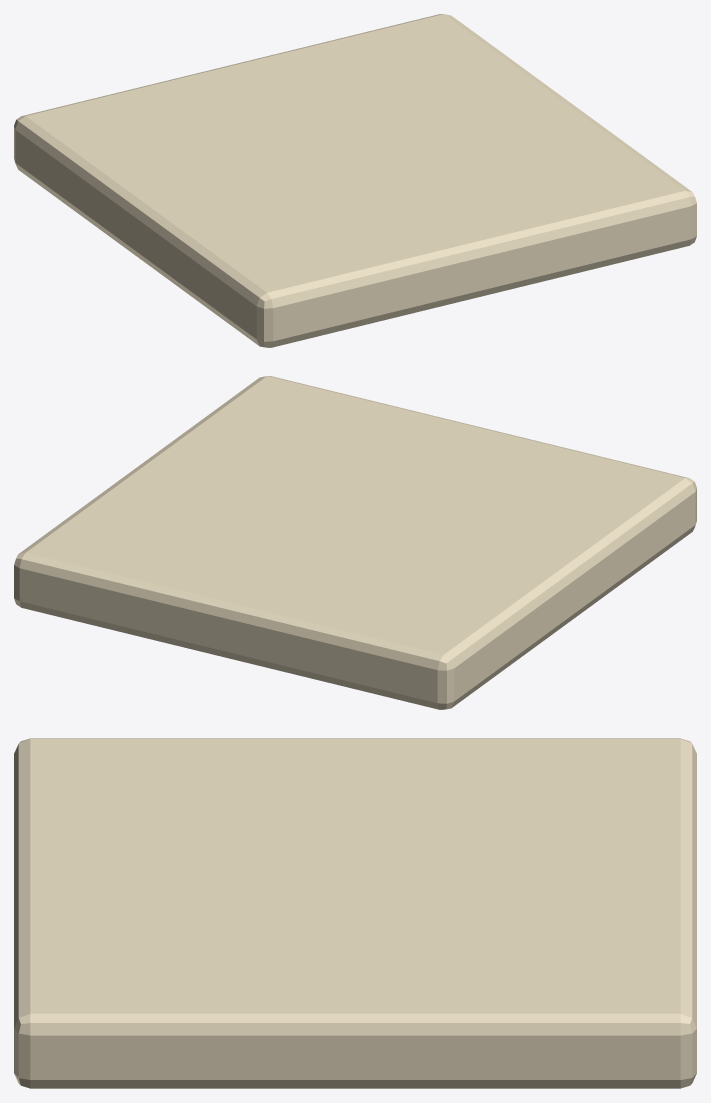
File: path_tile.glb
The picture shows the model from 3 angles, top to bottom: view 1: azimuth 30°, elevation 25°; view 2: azimuth 150°, elevation 25°; view 3: azimuth 270°, elevation 25°; orthographic projection. The views are drawn at different scales.
Parts seen in each view (by area): view 1: tile; view 2: tile; view 3: tile.
Part boxes in pixels (box(x1,y1,x2,y2)): tile: box(14, 14, 696, 347); tile: box(14, 376, 696, 709); tile: box(14, 738, 696, 1088).
Bounding box in the file's own units: 1 × 0.12 × 1.
